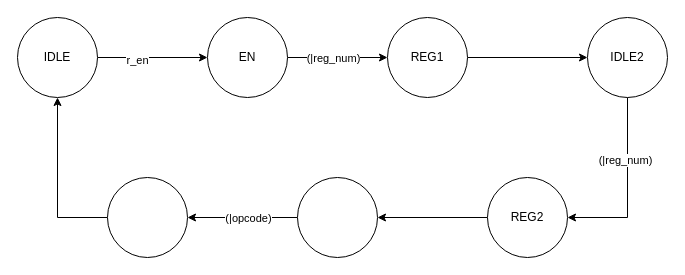
This 685x275 diagram has some shape labels left out. The shapes that lost their labels are listed below. From the top down, each one's box as (x1, y1, x2, y2) in pixels, then its label:
(106, 176, 188, 258): RESULT
(296, 176, 378, 258): IDLE3
